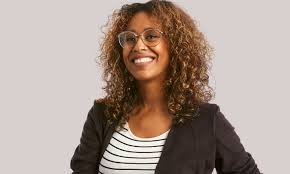g.y: (120, 28, 139, 50)
